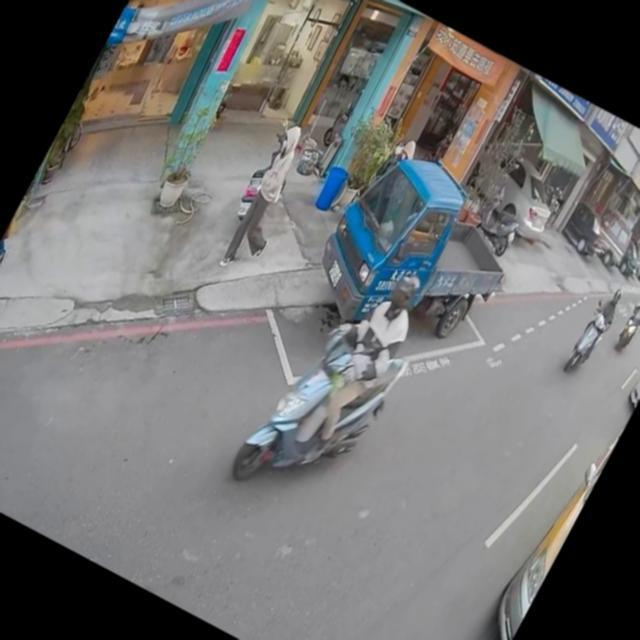person: (272, 249, 438, 473), (210, 114, 324, 276), (567, 282, 627, 367), (372, 132, 411, 188), (0, 234, 24, 320), (396, 135, 422, 163), (626, 291, 640, 328)
